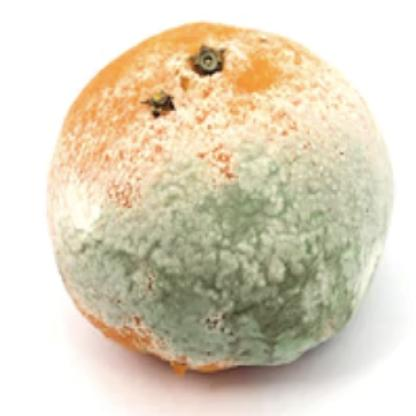rotten: (49, 22, 400, 373)
